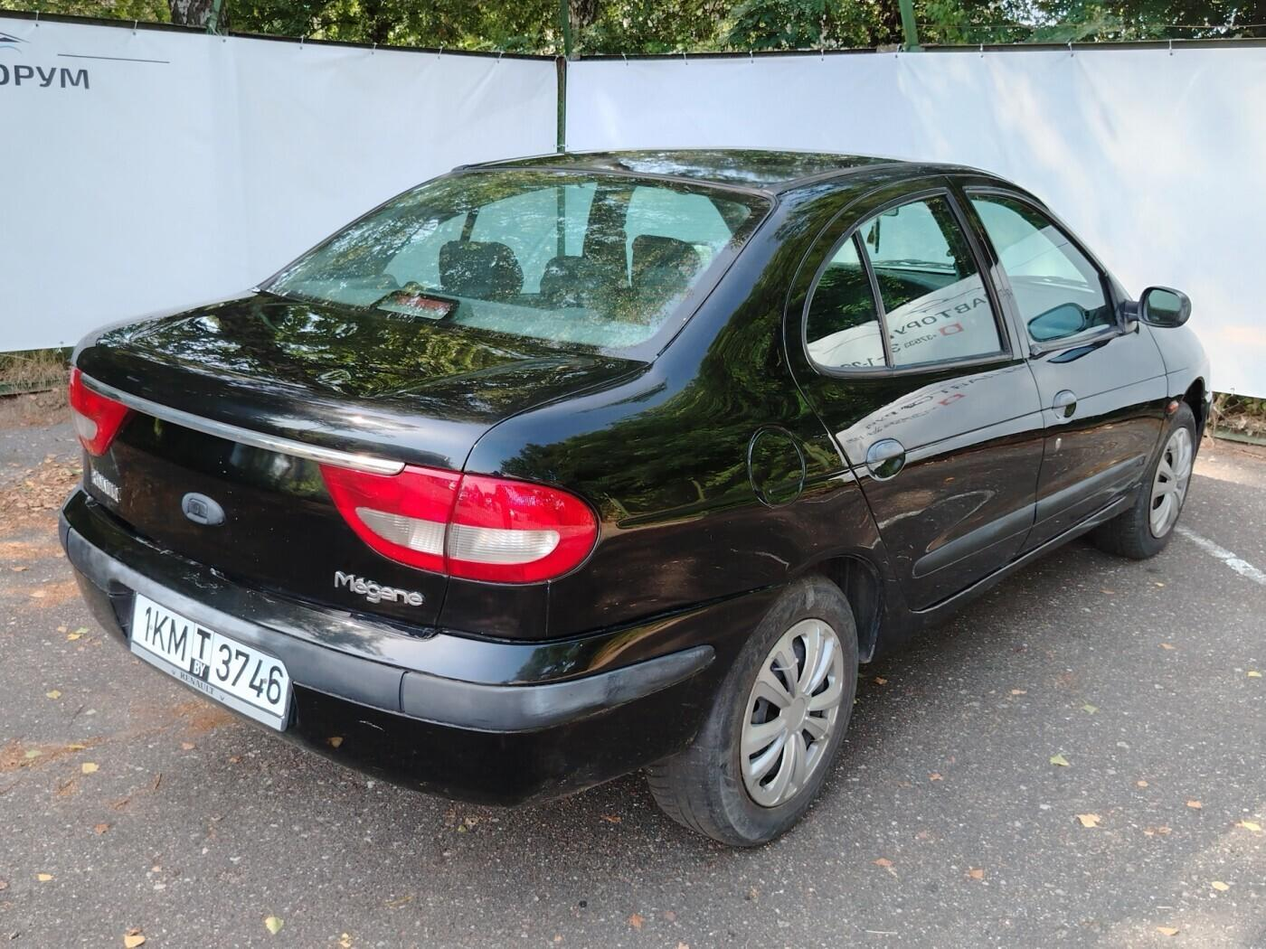Megane_1999-2003: (52, 139, 1203, 838)
